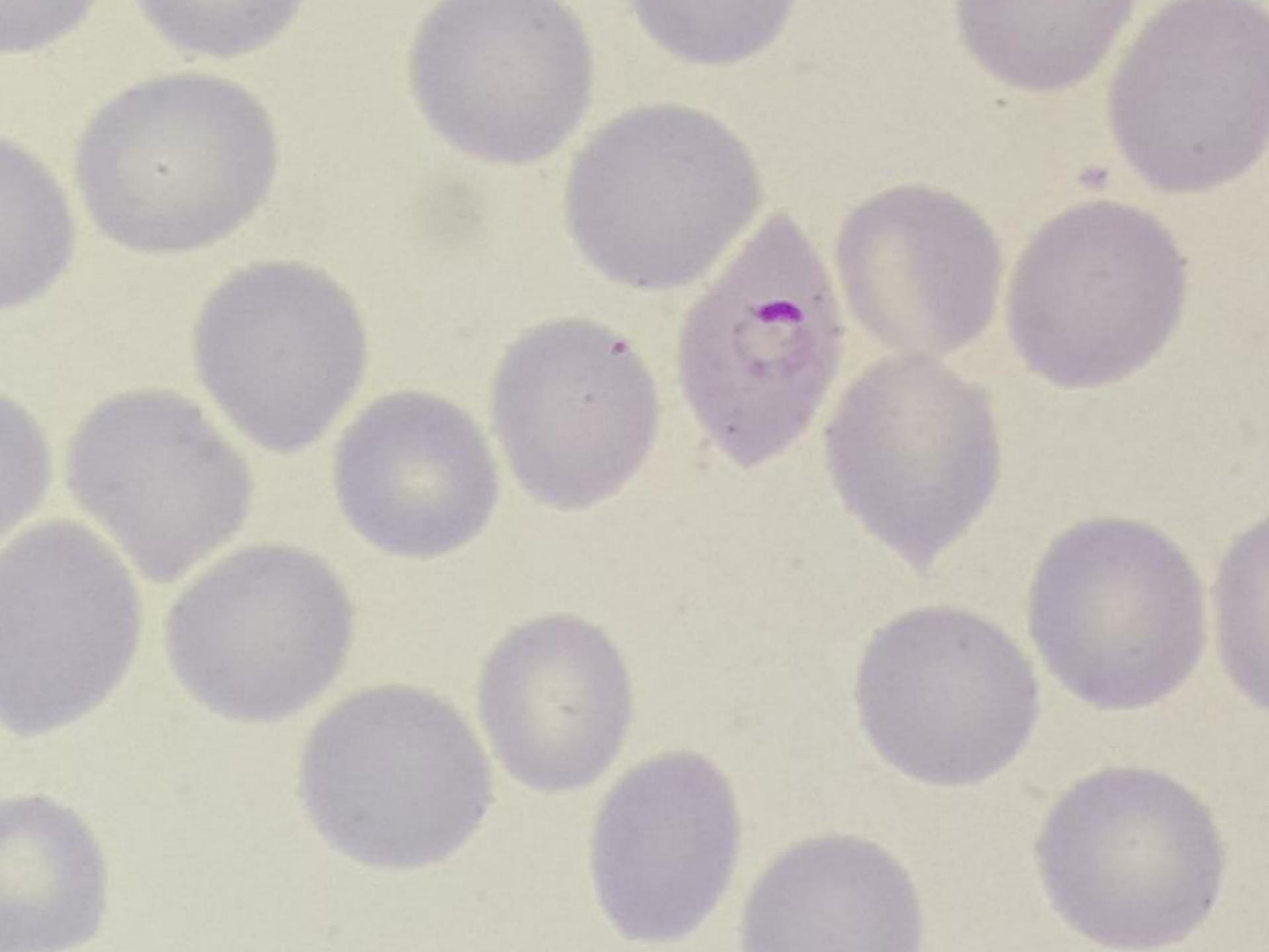Infected: (679, 217, 844, 472)
Uninfected: (825, 357, 1004, 575), (560, 104, 758, 287), (81, 73, 280, 255), (66, 390, 249, 582), (301, 686, 491, 865), (162, 549, 354, 718), (1036, 773, 1219, 949), (859, 611, 1037, 791), (1036, 519, 1202, 709), (1015, 207, 1185, 388), (197, 265, 366, 447), (499, 321, 654, 512), (1114, 2, 1269, 192), (0, 521, 138, 734), (838, 185, 1000, 361), (590, 750, 738, 937), (408, 9, 592, 159), (335, 388, 491, 554), (481, 620, 627, 789), (742, 836, 925, 952), (0, 798, 107, 952)
